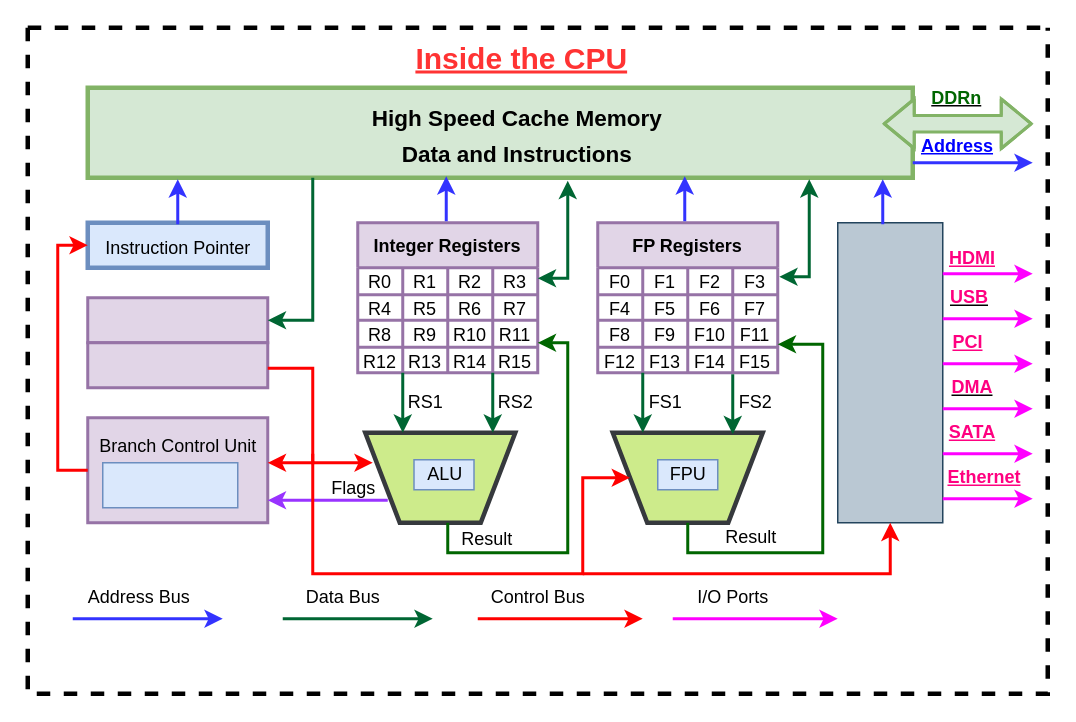
This 1076x722 diagram has some shape labels left out. Each missing label, with the centre of its shape:
"Branch History Table" belongs at (x=169, y=484).
"Control Unit" belongs at (x=889, y=372).
"Instruction Decode" belongs at (x=177, y=364).
"Instruction Register" belongs at (x=177, y=320).
